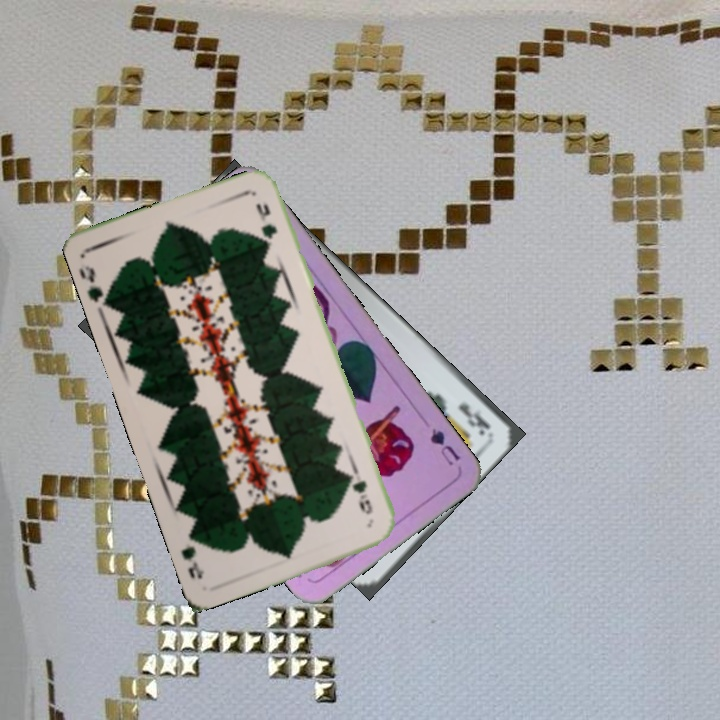EK: (454, 399, 494, 438)
G9: (77, 262, 113, 309), (350, 476, 376, 517)
GU: (426, 424, 463, 468)
